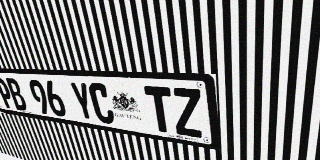6: (41, 80, 68, 117)
9: (27, 79, 53, 115)
B: (4, 78, 29, 111)
C: (87, 83, 116, 125)
P: (0, 77, 16, 110)
T: (144, 86, 176, 134)
Y: (69, 82, 97, 122)
Z: (171, 87, 204, 138)
